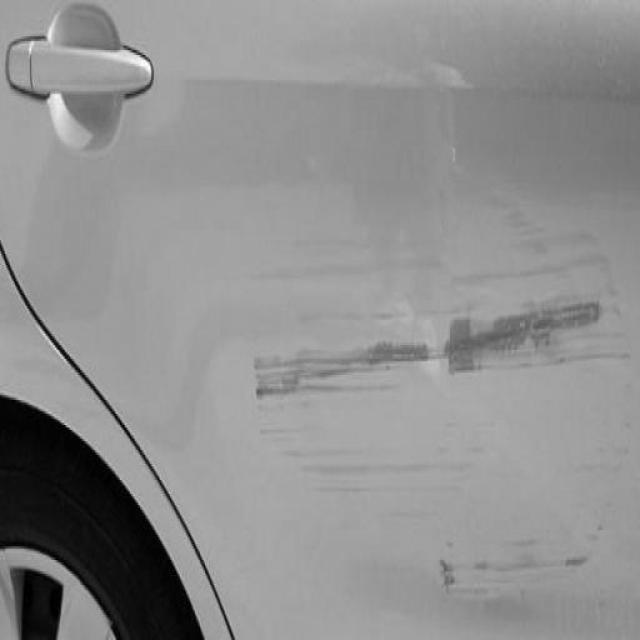scratch: (248, 137, 633, 603)
